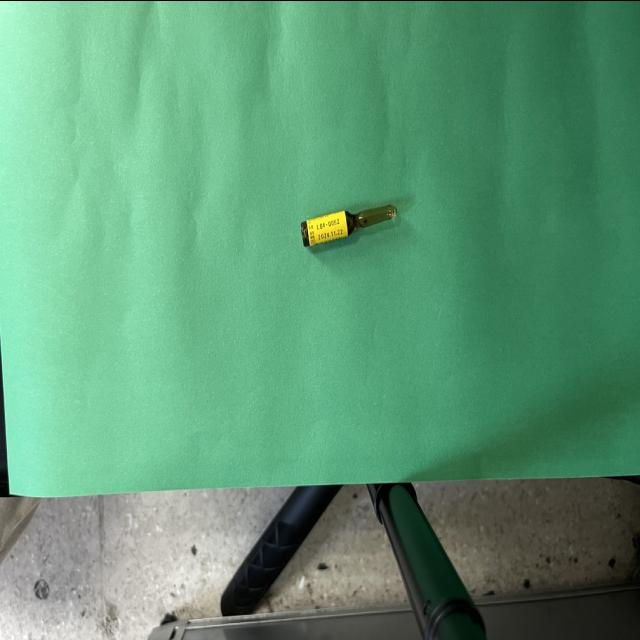Ampoules: (301, 204, 396, 246)
